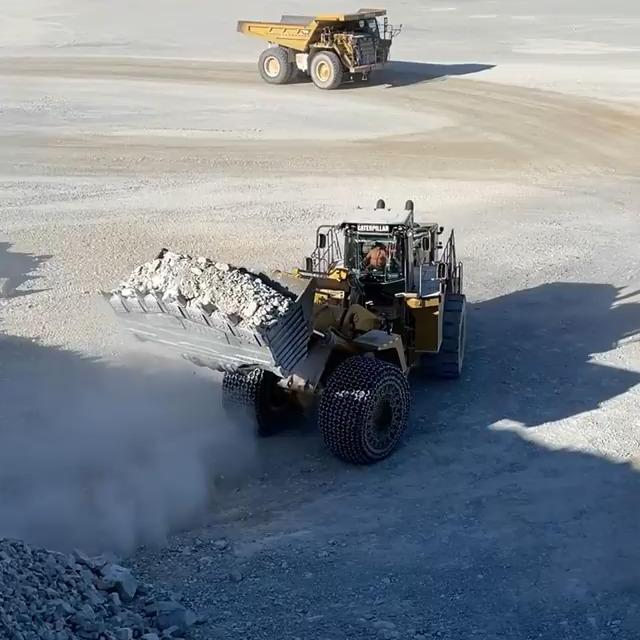NO-Hardhat: (375, 244, 383, 249)
NO-Safety Vest: (369, 252, 385, 267)
Person: (360, 244, 391, 268)
dump truck: (231, 0, 402, 91)
wheel loader: (96, 192, 479, 467)
